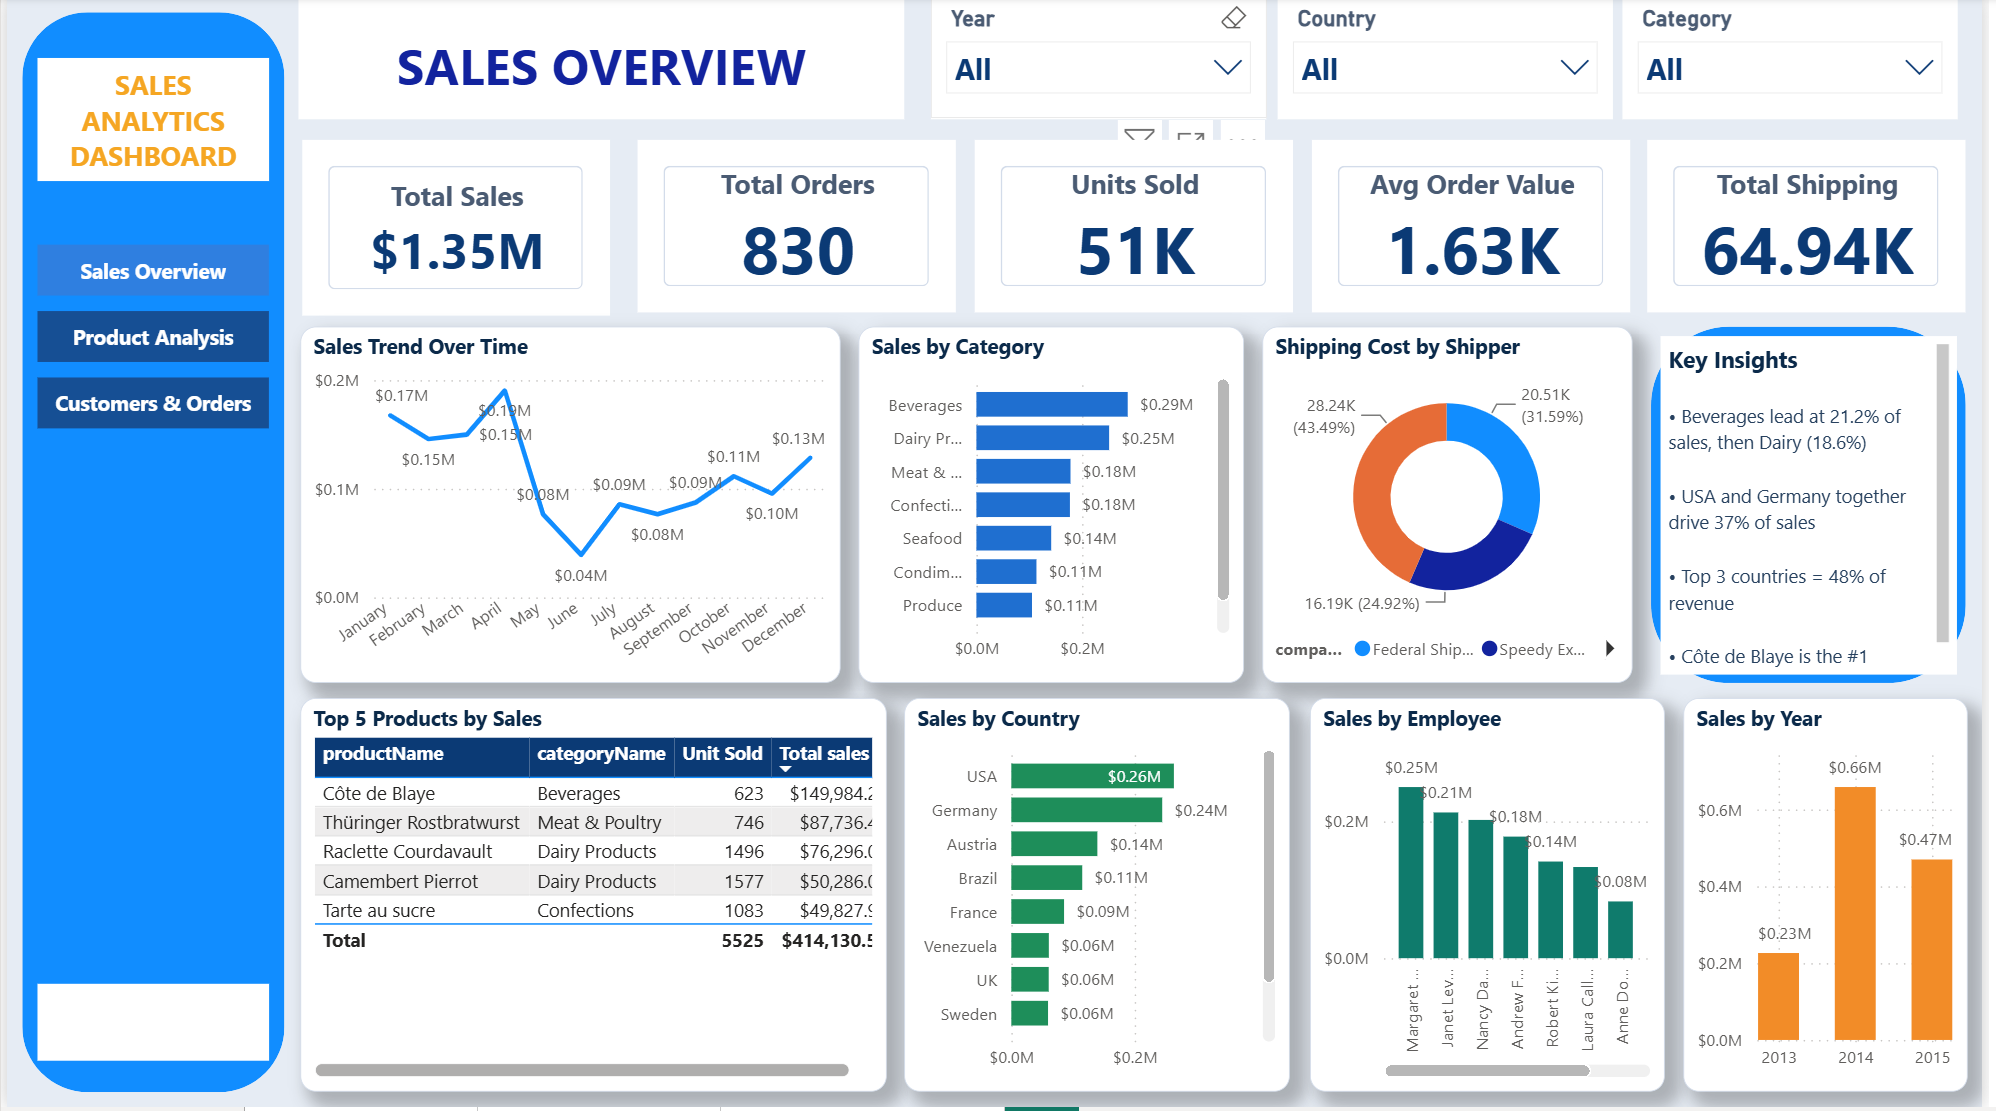

The page's visual inventory and layout, read from the dashboard file:
{"tool":"powerbi","page":{"name":"Sales Overview","canvas":[1280,720],"ordinal":0},"visuals":[{"type":"shape","box":[10,10,170,700],"z":0},{"type":"textbox","box":[20,40,150,80],"z":1000},{"type":"pageNavigator","box":[20,160,150,120],"z":2000},{"type":"textbox","box":[20,640,150,50],"z":3000},{"type":"slicer","fields":{"Values":["orders.orderDate.Variation.Date Hierarchy.Year"]},"box":[599.2,0,217.3,79],"z":6000},{"type":"slicer","fields":{"Values":["customers.country"]},"box":[823,0,217.3,79],"z":8000},{"type":"slicer","fields":{"Values":["categories.categoryName"]},"box":[1046.9,0,217.3,79],"z":9000},{"type":"cardVisual","fields":{"Data":["categories.Total sales"]},"box":[190.9,92.2,199.7,114.1],"z":10000},{"type":"cardVisual","fields":{"Data":["categories.Total Orders"]},"box":[408.4,92,206.4,112],"z":11000},{"type":"cardVisual","fields":{"Data":["categories.Unit Sold"]},"box":[626.8,92,206.4,112],"z":12000},{"type":"cardVisual","fields":{"Data":["categories.Avg order"]},"box":[845.2,92,206.4,112],"z":13000},{"type":"cardVisual","fields":{"Data":["categories.Total Shipping"]},"box":[1063.6,92,206.4,112],"z":14000},{"type":"lineChart","title":"Sales Trend Over Time","fields":{"Category":["orders.orderDate.Variation.Date Hierarchy.Month"],"Y":["categories.Total sales"]},"box":[190,214,350,231.2],"z":15000},{"type":"clusteredBarChart","title":"Sales by Category","fields":{"Category":["categories.categoryName"],"Y":["categories.Total sales"]},"box":[552,214,250,231.2],"z":16000},{"type":"donutChart","title":"Shipping Cost by Shipper","fields":{"Category":["shippers.companyName"],"Y":["categories.Total Shipping"]},"box":[814,214,240,231.2],"z":17000},{"type":"shape","box":[1066,214,204,231.2],"z":18000},{"type":"textbox","box":[1072,219.8,192,219.6],"z":19000},{"type":"tableEx","title":"Top 5 Products by Sales","fields":{"Values":["products.productName","categories.categoryName","categories.Unit Sold","categories.Total sales"]},"box":[190,454.8,380,255.2],"z":20000},{"type":"clusteredBarChart","title":"Sales by Country","fields":{"Category":["customers.country"],"Y":["categories.Total sales"]},"box":[582,454.8,250,255.2],"z":21000},{"type":"clusteredColumnChart","title":"Sales by Employee","fields":{"Category":["employees.employeeName"],"Y":["categories.Total sales"]},"box":[844,454.8,230,255.2],"z":22000},{"type":"clusteredColumnChart","title":"Sales by Year","fields":{"Category":["orders.orderDate.Variation.Date Hierarchy.Year"],"Y":["categories.Total sales"]},"box":[1086,454.8,184,255.2],"z":23000},{"type":"textbox","box":[188.8,0,392.9,79],"z":23001}]}

Visuals, with their boxes in screenshot pixels (x1, y1, x2, y2), scaled from the page's 1280x720 canvas onto the 1996x1111 screenshot:
shape: x1=16, y1=15, x2=281, y2=1096
textbox: x1=31, y1=62, x2=265, y2=185
pageNavigator: x1=31, y1=247, x2=265, y2=432
textbox: x1=31, y1=988, x2=265, y2=1065
slicer - orders.orderDate.Variation.Date Hierarchy.Year: x1=934, y1=0, x2=1273, y2=122
slicer - customers.country: x1=1283, y1=0, x2=1622, y2=122
slicer - categories.categoryName: x1=1633, y1=0, x2=1971, y2=122
cardVisual - categories.Total sales: x1=298, y1=142, x2=609, y2=318
cardVisual - categories.Total Orders: x1=637, y1=142, x2=959, y2=315
cardVisual - categories.Unit Sold: x1=977, y1=142, x2=1299, y2=315
cardVisual - categories.Avg order: x1=1318, y1=142, x2=1640, y2=315
cardVisual - categories.Total Shipping: x1=1659, y1=142, x2=1980, y2=315
"Sales Trend Over Time" lineChart: x1=296, y1=330, x2=842, y2=687
"Sales by Category" clusteredBarChart: x1=861, y1=330, x2=1251, y2=687
"Shipping Cost by Shipper" donutChart: x1=1269, y1=330, x2=1644, y2=687
shape: x1=1662, y1=330, x2=1980, y2=687
textbox: x1=1672, y1=339, x2=1971, y2=678
"Top 5 Products by Sales" tableEx: x1=296, y1=702, x2=889, y2=1096
"Sales by Country" clusteredBarChart: x1=908, y1=702, x2=1297, y2=1096
"Sales by Employee" clusteredColumnChart: x1=1316, y1=702, x2=1675, y2=1096
"Sales by Year" clusteredColumnChart: x1=1693, y1=702, x2=1980, y2=1096
textbox: x1=294, y1=0, x2=907, y2=122
